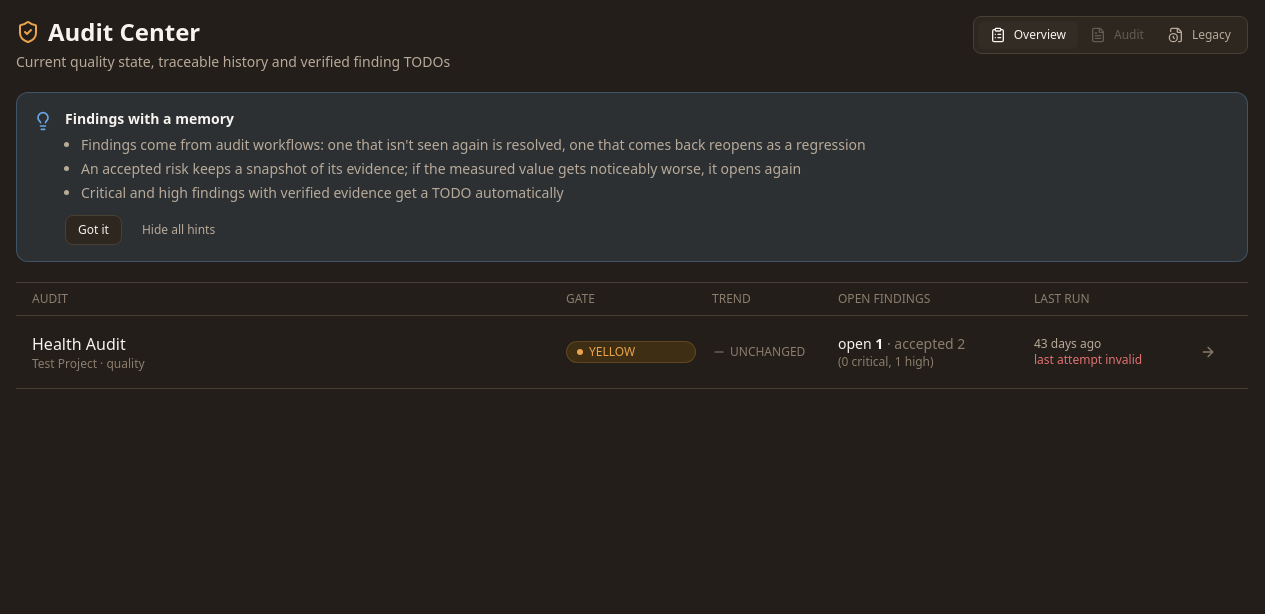
AuditCenter report head › says so when the latest attempt was invalid and the shown report is older
The width and height of the screenshot is (1265, 614).
Click the text "Health Audit" at (79, 344), box [32,333,126,355]
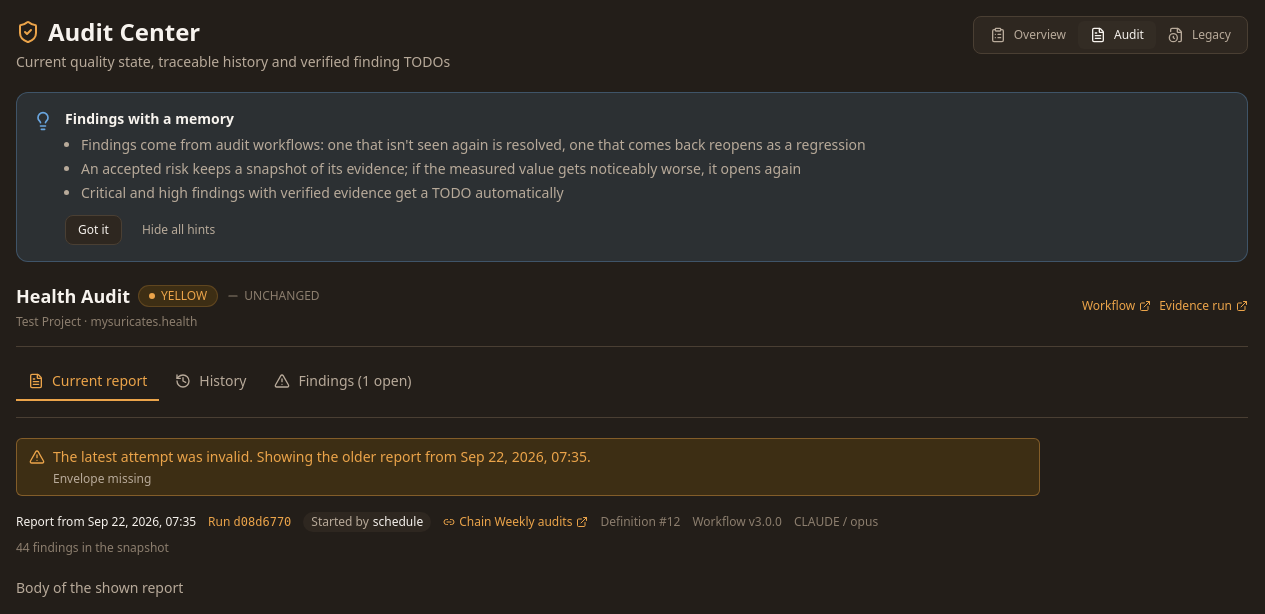
Now the element with test id "older-report-notice" shows "Envelope missing", box [53,470,151,487]
Now the text "Body of the shown report" is shown, box [16,578,183,597]
